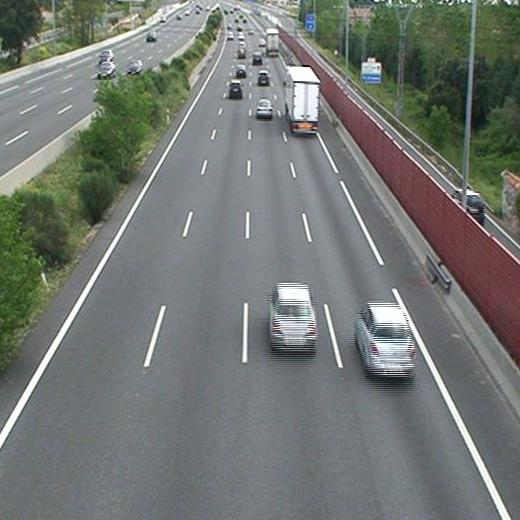car: (358, 305, 416, 374), (271, 285, 318, 348), (256, 99, 273, 115), (229, 81, 242, 95), (258, 72, 270, 85), (235, 65, 245, 77), (251, 53, 261, 63), (237, 47, 246, 56)
truck: (284, 67, 318, 131), (266, 29, 279, 58)
